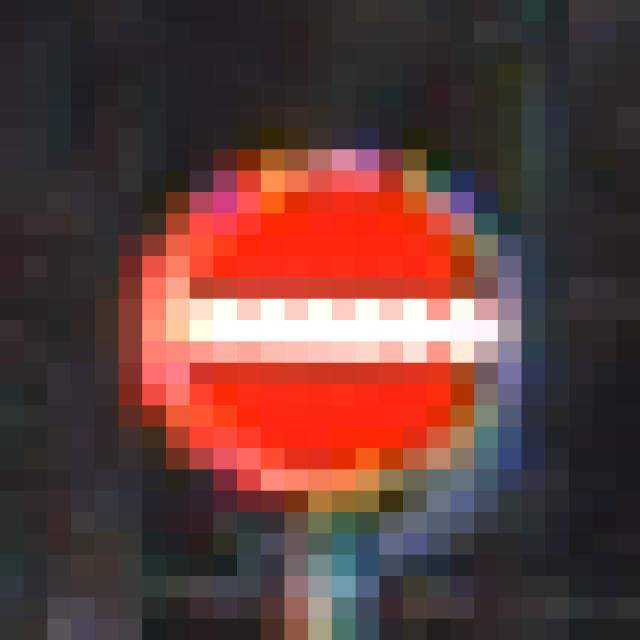No Entry: (120, 129, 523, 534)
